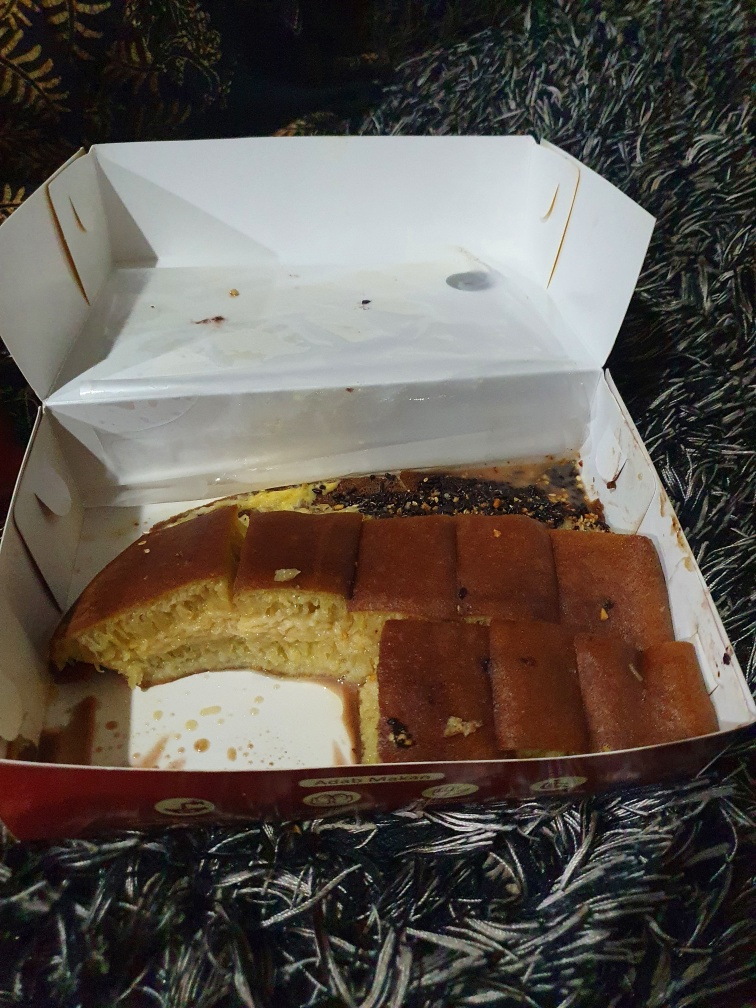martabak manis: (58, 507, 240, 687), (232, 503, 356, 680), (357, 626, 487, 762), (568, 637, 714, 750), (551, 522, 678, 646), (351, 506, 458, 630), (481, 622, 576, 755), (456, 506, 561, 624)
